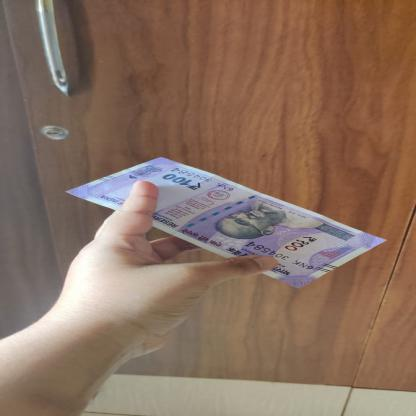New100Front: (58, 156, 388, 292)
